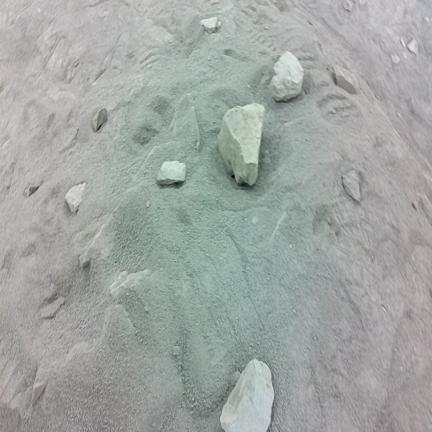Rock: (221, 360, 274, 431), (218, 104, 264, 185), (169, 93, 200, 149), (272, 52, 304, 101), (110, 270, 150, 300), (333, 65, 358, 94), (65, 182, 87, 212), (158, 161, 186, 184), (342, 170, 360, 201), (41, 297, 65, 319), (92, 108, 108, 132), (419, 194, 431, 224), (32, 381, 47, 404), (200, 16, 218, 34), (24, 181, 42, 198), (79, 247, 91, 268), (408, 39, 418, 54), (343, 0, 353, 11), (392, 55, 400, 64), (173, 346, 180, 355), (400, 37, 405, 47), (146, 200, 150, 208), (403, 52, 407, 59), (217, 21, 221, 28)
